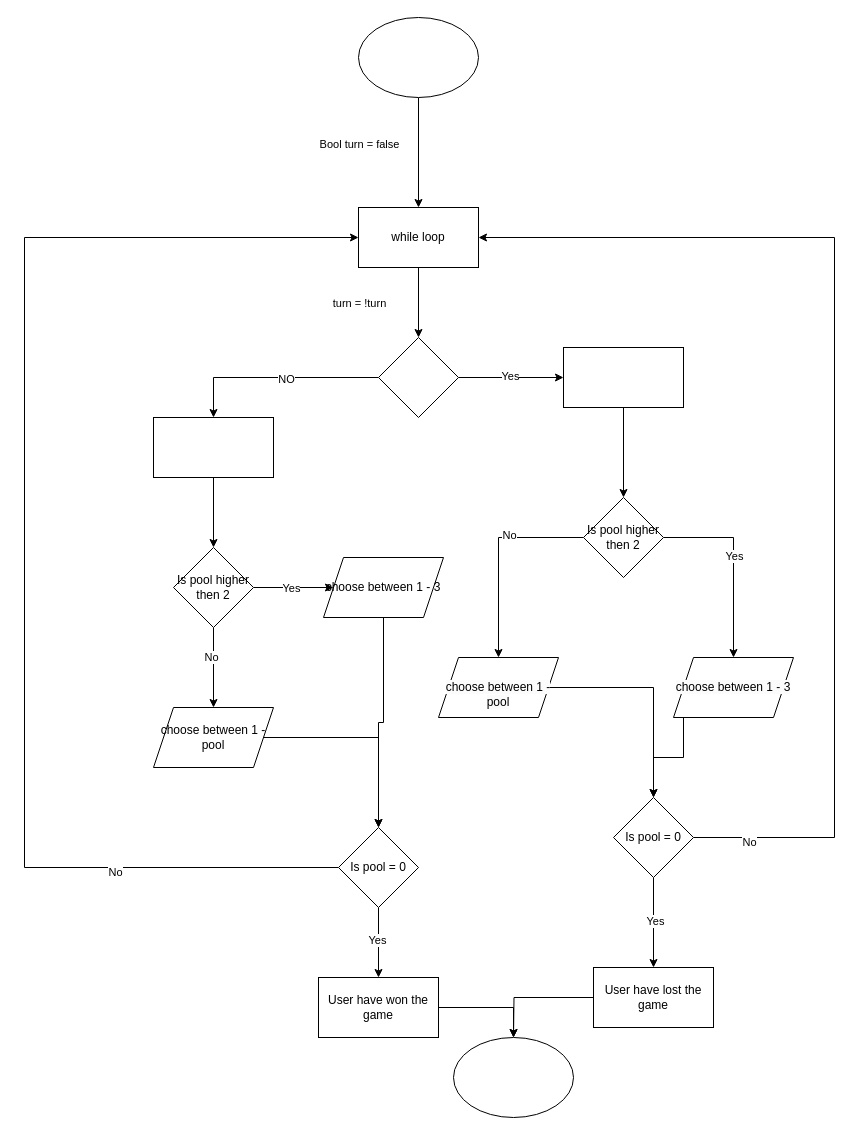
Some shapes in this 860 by 1135 pixel diagram are drawn without their labels. Each missing label, with the centre of its shape:
"Computers turn" belongs at (213,447).
"End" belongs at (513,1077).
"Is turn false" belongs at (418,377).
"Start Program" belongs at (418,57).
"User's turn" belongs at (623,377).
